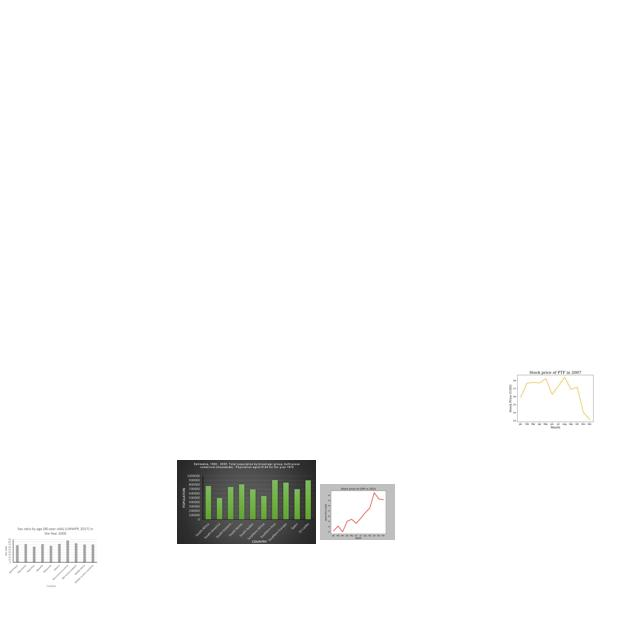Graph: (177, 460, 316, 544), (505, 361, 603, 435), (1, 526, 99, 590), (320, 484, 395, 540)
